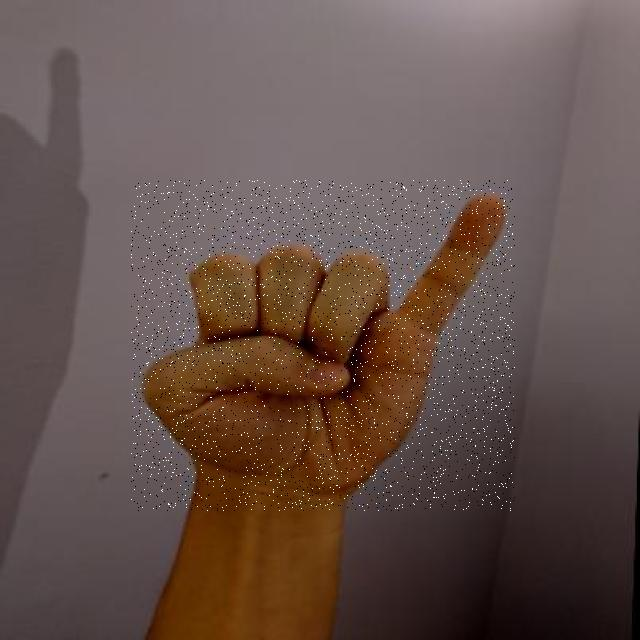I: (131, 180, 515, 511)
